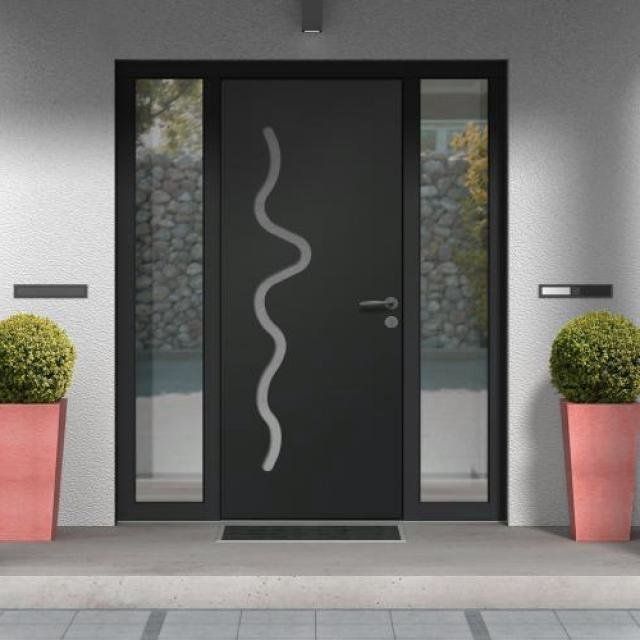door: (218, 75, 405, 520)
